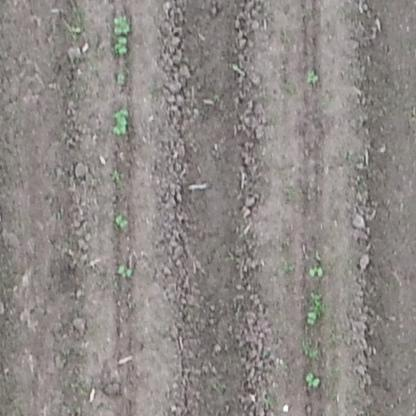vc: (111, 105, 131, 137), (303, 369, 324, 391), (111, 35, 132, 56), (110, 17, 134, 34), (306, 262, 326, 279), (304, 67, 323, 84), (116, 261, 133, 279), (115, 213, 130, 231), (114, 70, 128, 86), (306, 311, 318, 326)
